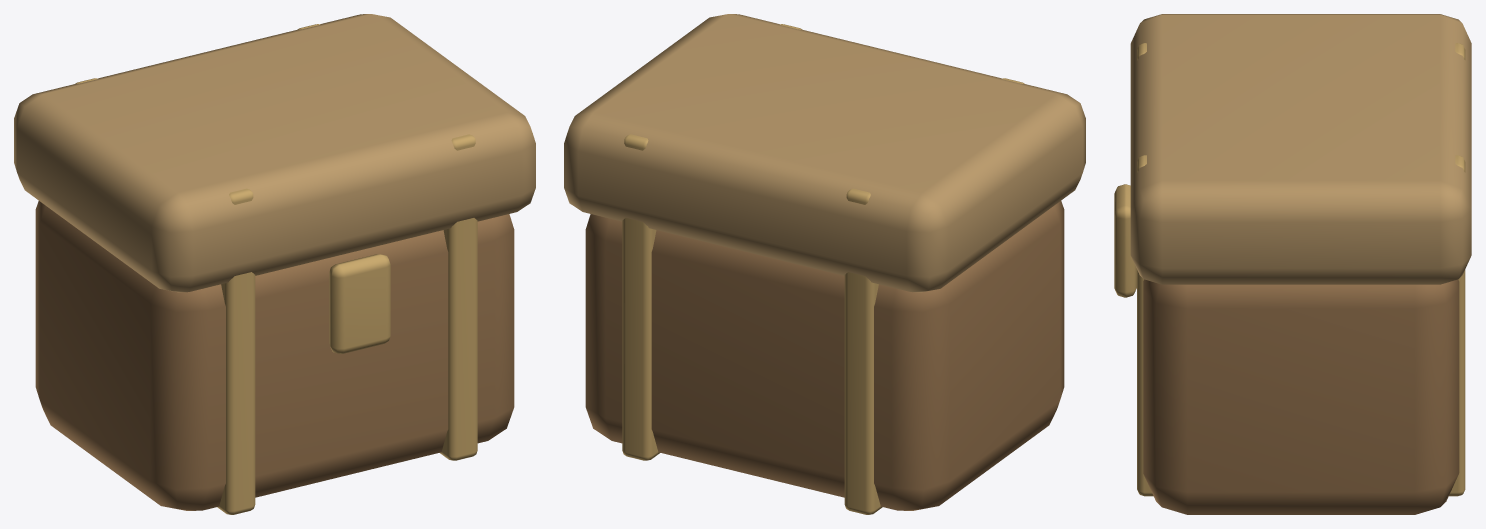
The model's file is treasure.glb.
3 views of the same model, side by side, from view 1: azimuth 30°, elevation 25°; view 2: azimuth 150°, elevation 25°; view 3: azimuth 270°, elevation 25° (orthographic). The views are drawn at different scales.
Visible parts, largest first — view 1: treasure_wood_light, treasure_wood, treasure_brass; view 2: treasure_wood_light, treasure_wood, treasure_brass; view 3: treasure_wood_light, treasure_wood, treasure_brass.
Boxes of the visible parts, box(x1,y1,x2,y2) form: treasure_wood_light: box(14, 14, 535, 292); treasure_wood: box(35, 201, 514, 510); treasure_brass: box(75, 24, 477, 514); treasure_wood_light: box(564, 14, 1085, 292); treasure_wood: box(585, 201, 1064, 510); treasure_brass: box(622, 24, 1024, 514); treasure_wood_light: box(1130, 14, 1471, 284); treasure_wood: box(1143, 279, 1459, 514); treasure_brass: box(1114, 43, 1465, 496).
Size of the model in its own units: 0.36 by 0.3 by 0.283.
